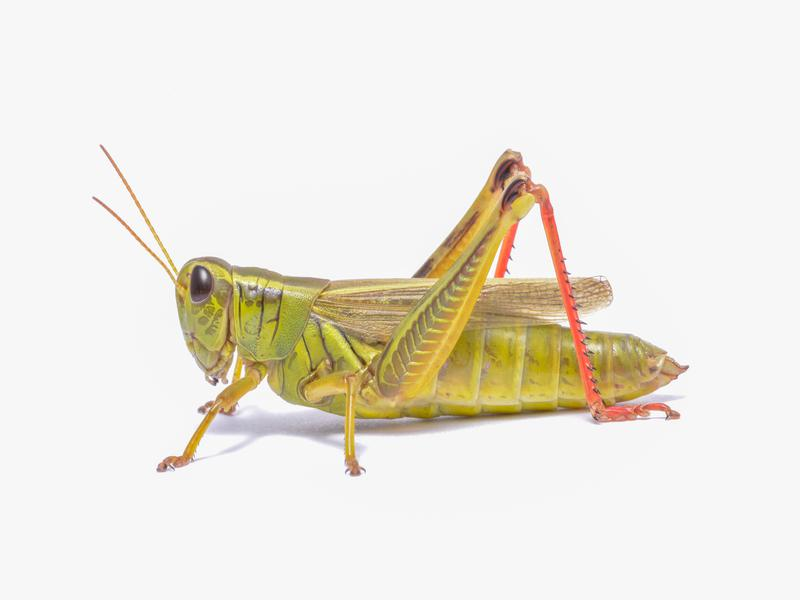Grasshopper: (94, 154, 700, 478)
